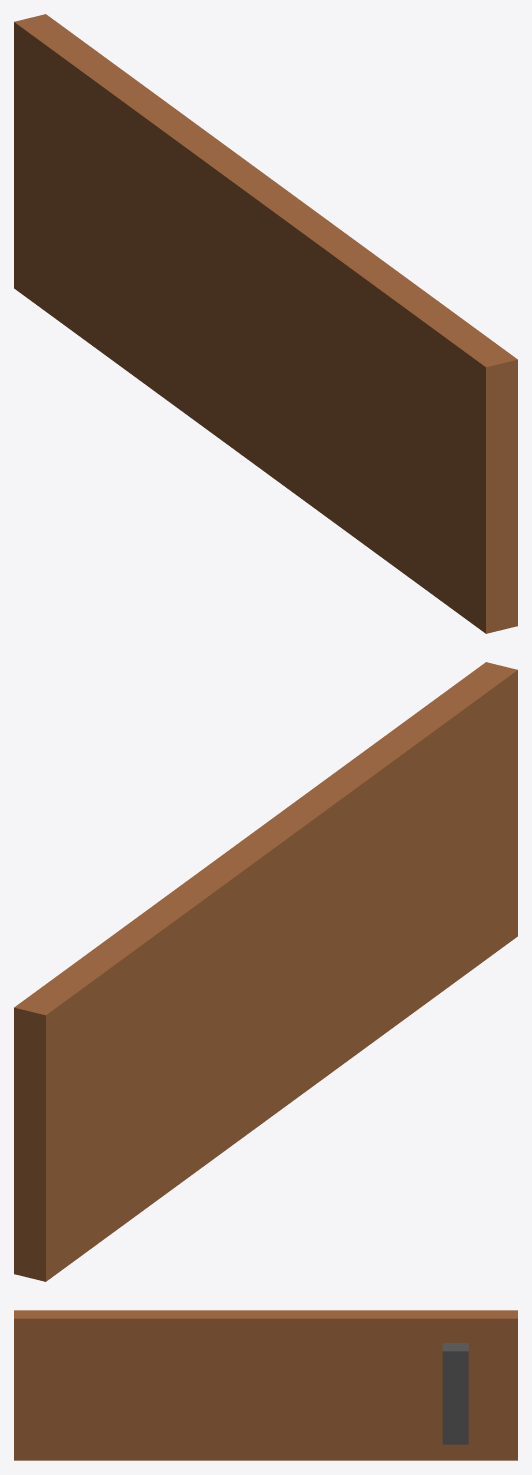
File: Stand_Door_R.fbx
3 views of the same model, one above another, from view 1: azimuth 30°, elevation 25°; view 2: azimuth 150°, elevation 25°; view 3: azimuth 270°, elevation 25° (orthographic). The views are drawn at different scales.
Visible parts, largest first — view 1: Door_R; view 2: Door_R; view 3: Door_R.
Boxes of the visible parts, x1=… form: Door_R: x1=14, y1=14, x2=517, y2=633; Door_R: x1=14, y1=662, x2=517, y2=1281; Door_R: x1=14, y1=1310, x2=517, y2=1460.
Size of the model in its own units: 153 by 610 by 1959.
